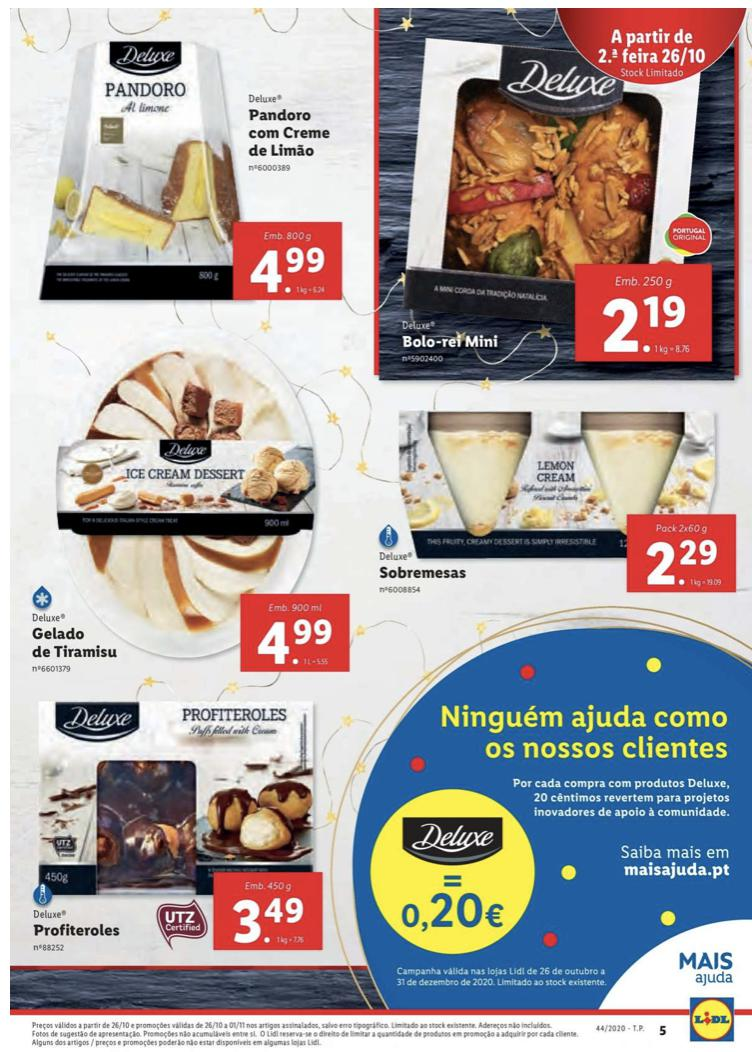name: (247, 104, 338, 161), (27, 623, 125, 665), (376, 562, 470, 586), (29, 918, 125, 941), (402, 331, 505, 352)
price: (242, 221, 334, 296), (598, 292, 696, 361), (227, 892, 309, 951), (643, 535, 730, 590), (253, 615, 339, 667)
product: (365, 31, 752, 383), (21, 336, 360, 688), (27, 32, 355, 336), (21, 700, 353, 958), (365, 393, 752, 610)
